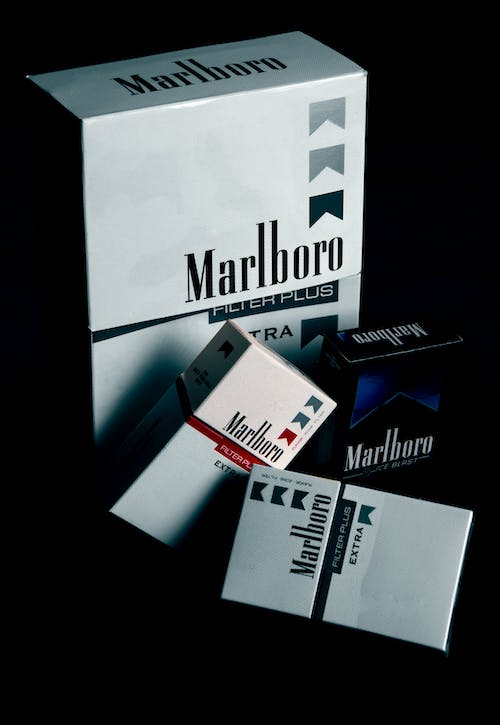cigarette: (22, 28, 364, 443), (105, 316, 338, 560), (214, 462, 475, 657), (321, 315, 467, 489)
